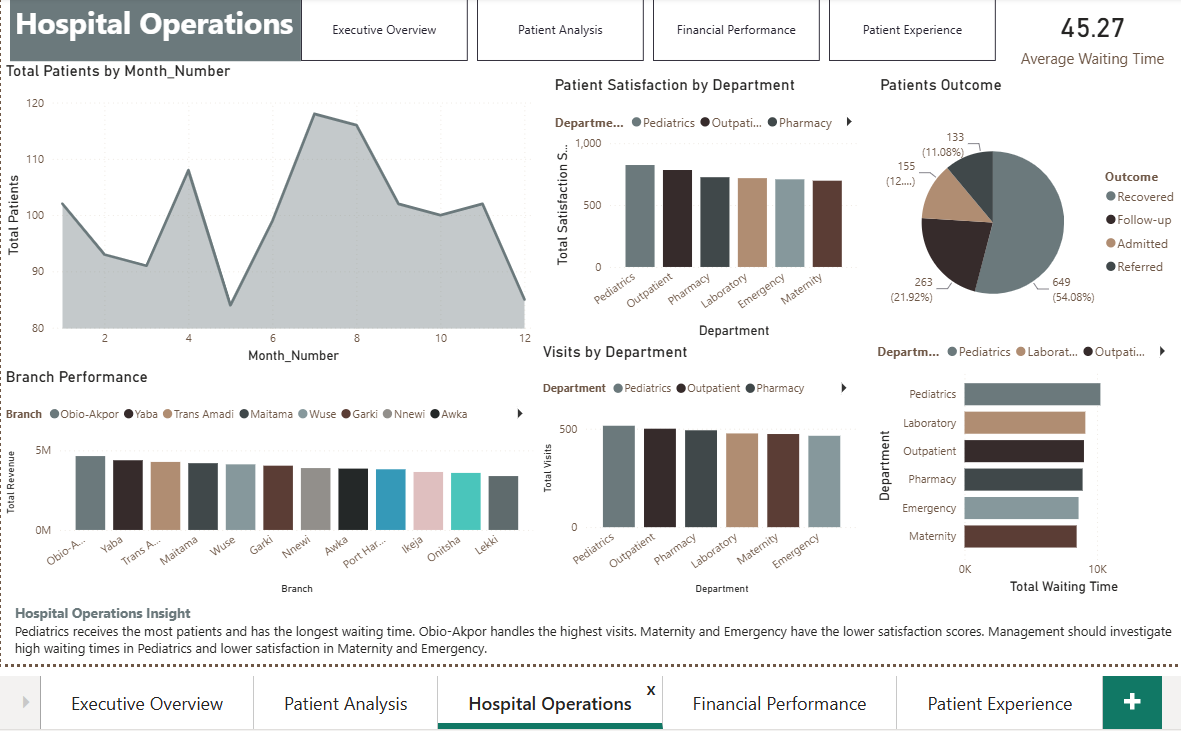

This screenshot's page, from the dashboard's own definition file:
{"tool":"powerbi","page":{"name":"Hospital Operations","canvas":[1280,720],"ordinal":2},"visuals":[{"type":"columnChart","title":"Visits by Department","fields":{"Category":["Patient_Visits.Department"],"Y":["Date_Table.Total Visits"],"Series":["Patient_Visits.Department"]},"box":[579.7,372.4,349.8,276.9],"z":0},{"type":"card","fields":{"Values":["Patient_Visits.Average Waiting Time"]},"box":[1075.2,0,205.6,82.6],"z":1000},{"type":"barChart","title":"Waiting Time by Department","fields":{"Category":["Patient_Visits.Department"],"Y":["Date_Table.Total Waiting Time"],"Series":["Patient_Visits.Department"]},"box":[940.8,331.9,328.7,317.4],"z":2000},{"type":"columnChart","title":"Patient Satisfaction by Department","fields":{"Category":["Patient_Visits.Department"],"Y":["Date_Table.Total Satisfaction Score"],"Series":["Patient_Visits.Department"]},"box":[592.6,84.2,336.8,288.2],"z":3000},{"type":"pieChart","title":"Patients Outcome","fields":{"Category":["Patient_Visits.Outcome"],"Y":["Date_Table.Total Patients"]},"box":[944,84.2,336.8,288.2],"z":4000},{"type":"columnChart","title":"Branch Performance","fields":{"Category":["Patient_Visits.Branch"],"Y":["Date_Table.Total Revenue"],"Series":["Patient_Visits.Branch"]},"box":[0,399.9,579.7,249.4],"z":5000},{"type":"stackedAreaChart","fields":{"Category":["Date_Table.Month_Number"],"Y":["Date_Table.Total Patients"]},"box":[0,69.6,579.7,330.3],"z":6000},{"type":"textbox","box":[9.7,0,314.1,69.6],"z":7000},{"type":"textbox","box":[9.7,649.3,1259.8,71.2],"z":7001},{"type":"pageNavigator","box":[323.8,0,751.3,69.6],"z":7002}]}

Visuals, with their boxes on the page's 1280x720 design canvas (x1, y1, x2, y2). These are canvas units, not pixel positions in the 1181x731 screenshot, which may show the page scaled, cropped or inside an application window:
"Visits by Department" columnChart: pyautogui.locateOnScreen(580, 372, 930, 649)
card - Patient_Visits.Average Waiting Time: pyautogui.locateOnScreen(1075, 0, 1281, 83)
"Waiting Time by Department" barChart: pyautogui.locateOnScreen(941, 332, 1270, 649)
"Patient Satisfaction by Department" columnChart: pyautogui.locateOnScreen(593, 84, 929, 372)
"Patients Outcome" pieChart: pyautogui.locateOnScreen(944, 84, 1281, 372)
"Branch Performance" columnChart: pyautogui.locateOnScreen(0, 400, 580, 649)
stackedAreaChart - Date_Table.Month_Number x Date_Table.Total Patients: pyautogui.locateOnScreen(0, 70, 580, 400)
textbox: pyautogui.locateOnScreen(10, 0, 324, 70)
textbox: pyautogui.locateOnScreen(10, 649, 1270, 720)
pageNavigator: pyautogui.locateOnScreen(324, 0, 1075, 70)
